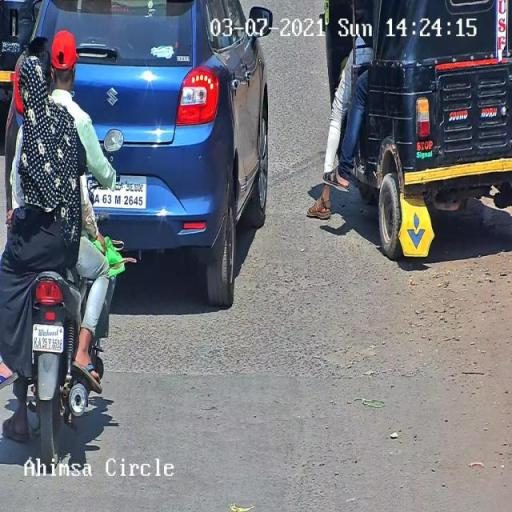tripple riding: (2, 28, 104, 271)
